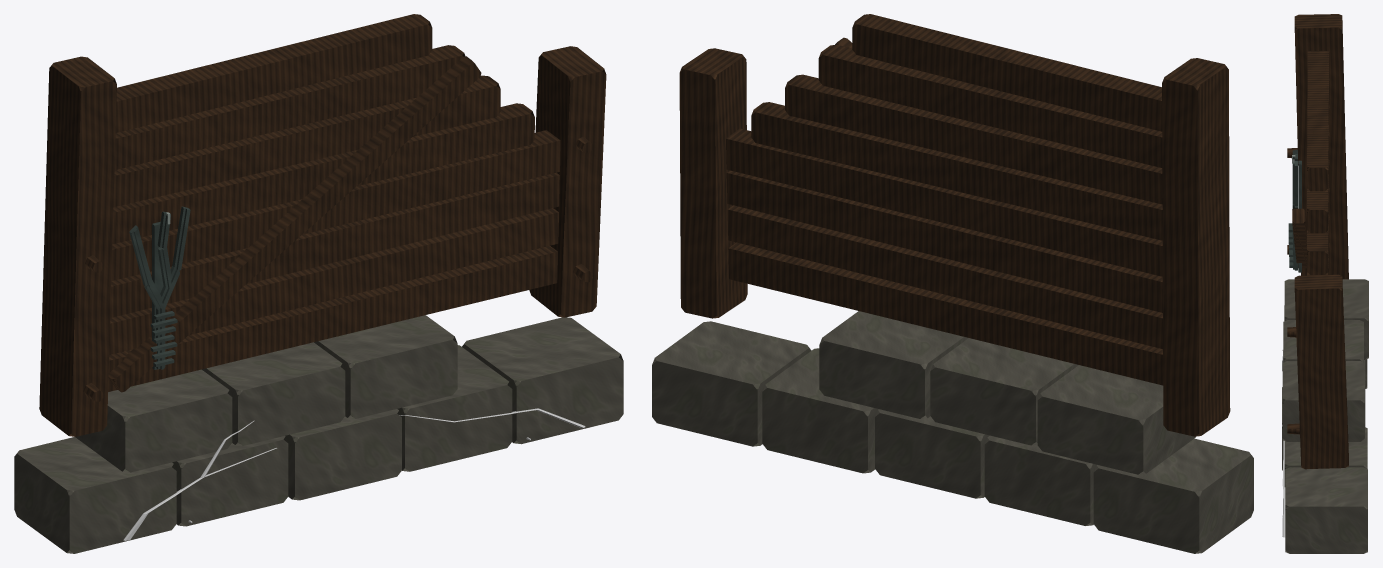
The model's file is cataclysm_rootvault_wall-lod0.gltf.
The picture shows the model from 3 angles, left to right: view 1: azimuth 30°, elevation 25°; view 2: azimuth 150°, elevation 25°; view 3: azimuth 270°, elevation 25°; orthographic projection. The views are drawn at different scales.
Parts seen in each view (by area): view 1: cataclysm_rootvault_wall LOD0 cataclysm_rootvault_wall, cataclysm_rootvault_wall LOD0 cataclysm_rootvault_wall roots; view 2: cataclysm_rootvault_wall LOD0 cataclysm_rootvault_wall; view 3: cataclysm_rootvault_wall LOD0 cataclysm_rootvault_wall, cataclysm_rootvault_wall LOD0 cataclysm_rootvault_wall roots.
Part boxes in pixels (bbox=[...]): cataclysm_rootvault_wall LOD0 cataclysm_rootvault_wall: bbox=[14, 14, 623, 553]; cataclysm_rootvault_wall LOD0 cataclysm_rootvault_wall roots: bbox=[123, 408, 585, 540]; cataclysm_rootvault_wall LOD0 cataclysm_rootvault_wall: bbox=[652, 14, 1253, 553]; cataclysm_rootvault_wall LOD0 cataclysm_rootvault_wall: bbox=[1282, 14, 1368, 553]; cataclysm_rootvault_wall LOD0 cataclysm_rootvault_wall roots: bbox=[1282, 350, 1285, 537].
Bounding box in the file's own units: 2.92 × 2.31 × 0.529.
